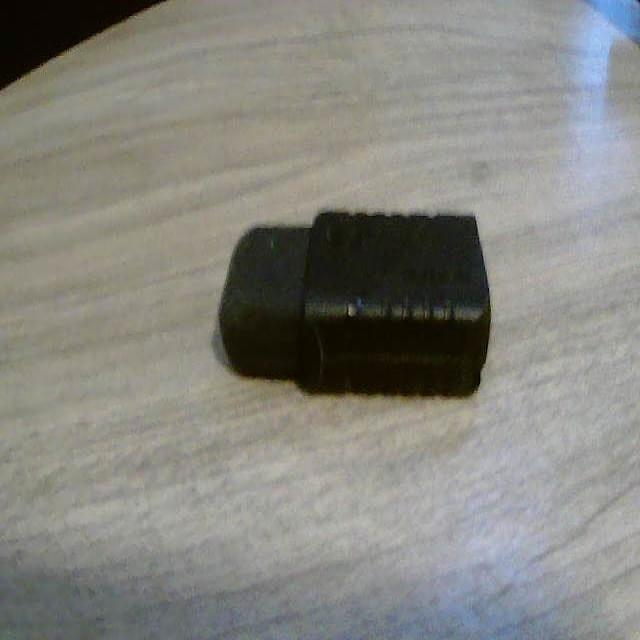borracha: (202, 183, 517, 405)
